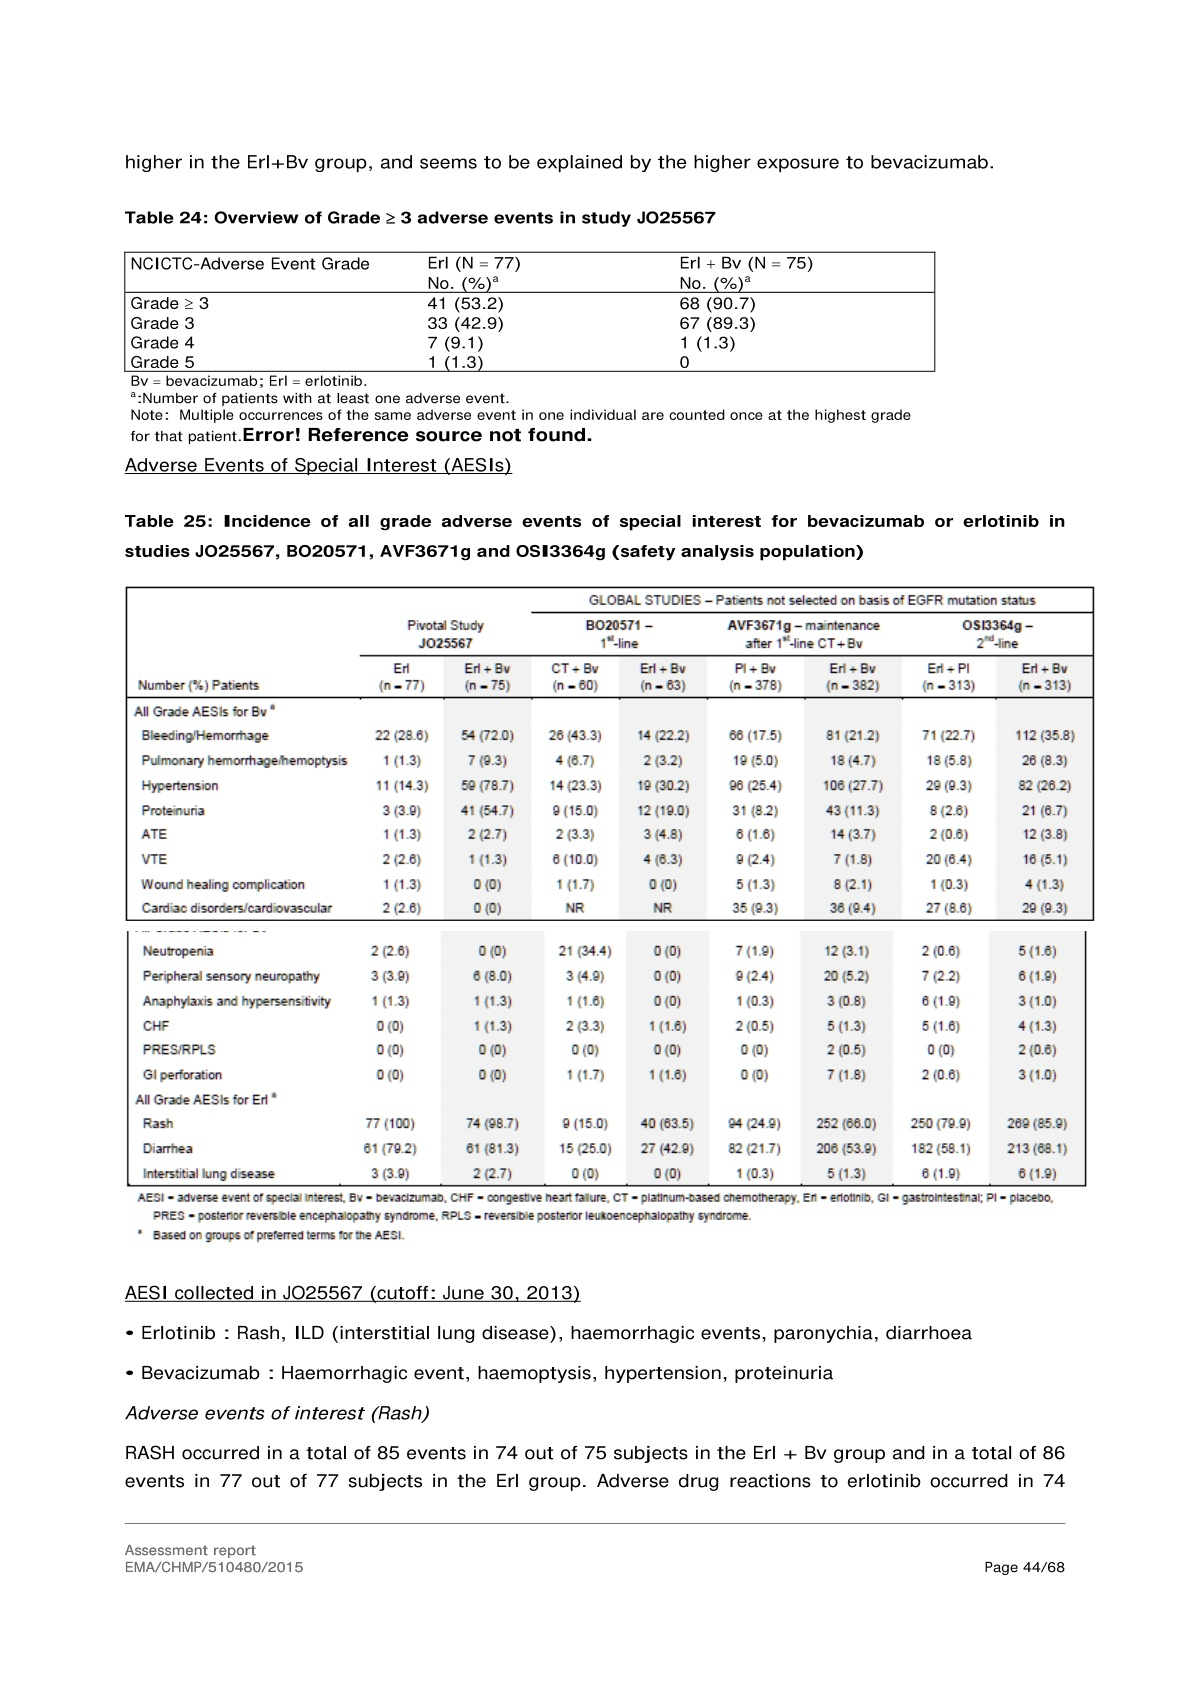partial_lined: (124, 251, 936, 373)
partial_lined_merged_cells: (125, 589, 1093, 1186)
